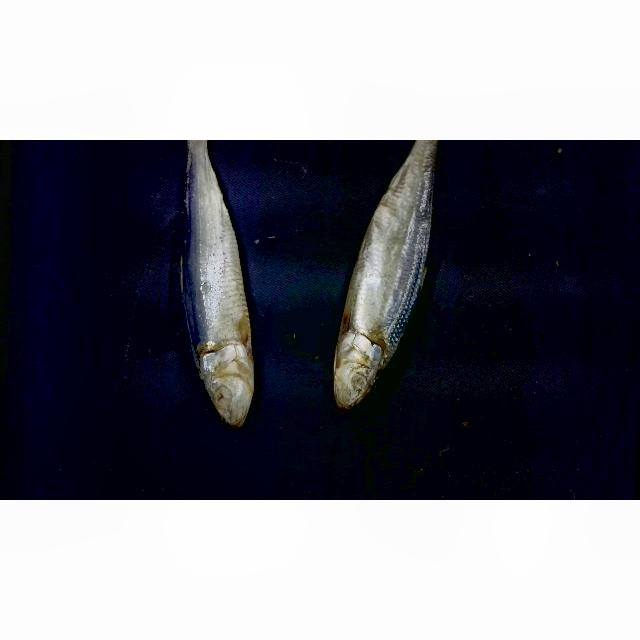Grade_A_Body: (339, 206, 438, 323), (165, 216, 256, 337)
Grade_A_Head: (188, 342, 266, 431), (325, 327, 407, 410)
Grade_A_Tail: (163, 140, 253, 213), (364, 140, 457, 204)
